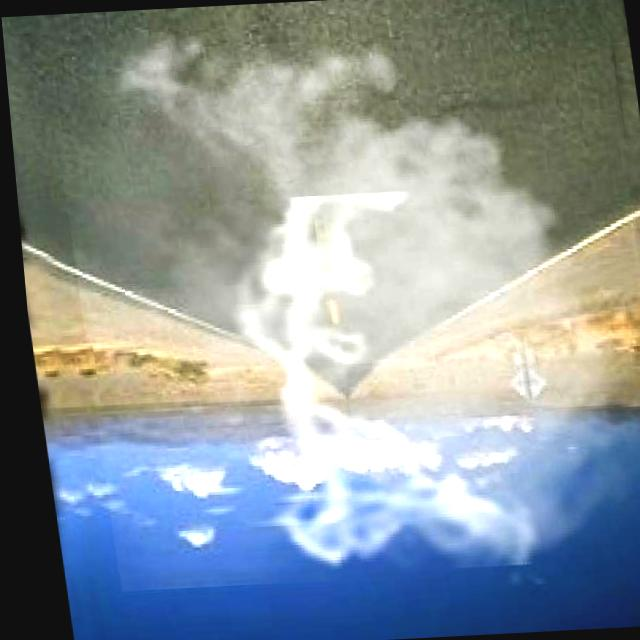no_helmet: (40, 0, 640, 591)
